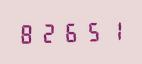eight: (18, 21, 38, 45)
five: (81, 19, 101, 42)
one: (102, 18, 122, 42)
six: (60, 20, 80, 43)
two: (39, 21, 59, 44)
